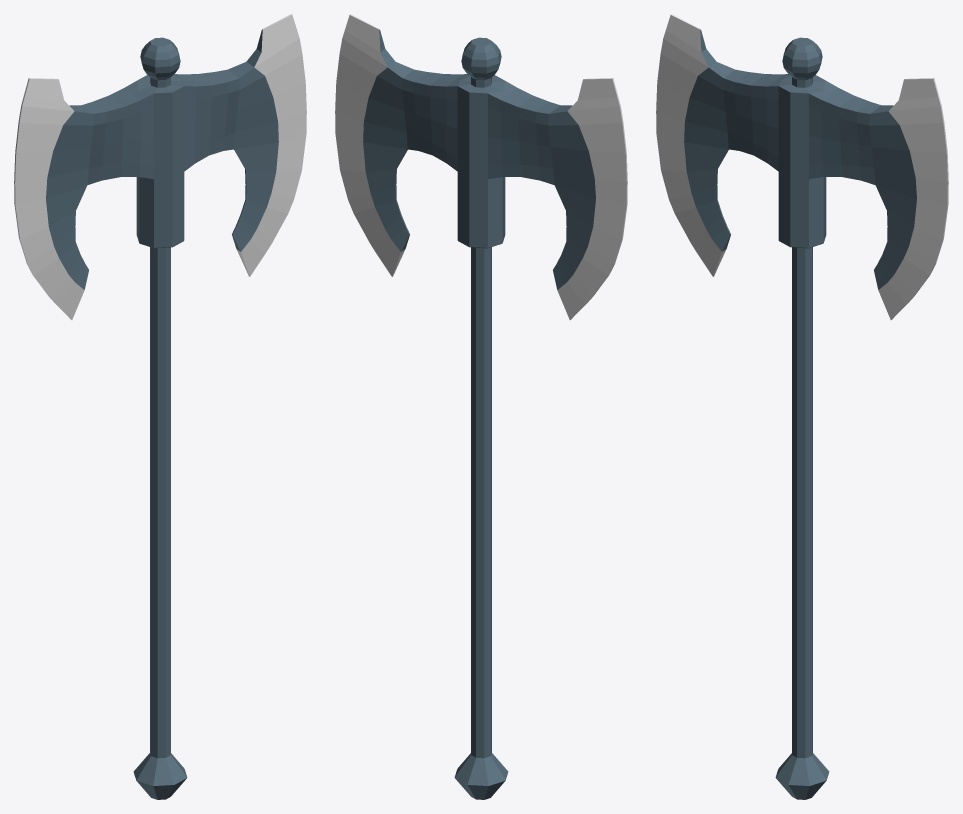
Rendered from two_handed_axe_8.fbx.
The picture shows the model from 3 angles, left to right: view 1: azimuth 30°, elevation 25°; view 2: azimuth 150°, elevation 25°; view 3: azimuth 330°, elevation 25°; orthographic projection.
Visible parts, largest first — view 1: two_handed_axe_8; view 2: two_handed_axe_8; view 3: two_handed_axe_8.
Boxes of the visible parts, x1,y1,x2,y2 form: two_handed_axe_8: (14, 14, 306, 799); two_handed_axe_8: (335, 14, 627, 799); two_handed_axe_8: (656, 14, 948, 799).
Bounding box in the file's own units: 0.7974 × 1.97 × 0.1323.
1 material, 1 textured.
